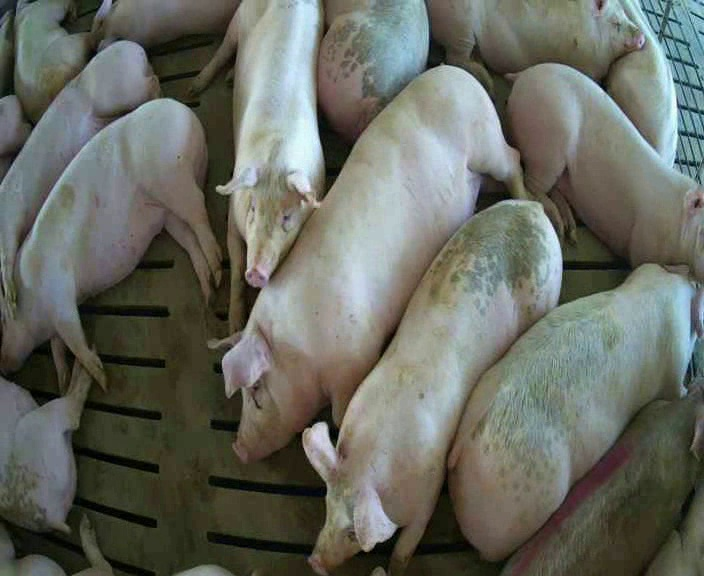pig: (207, 65, 527, 461), (305, 203, 560, 573), (448, 264, 703, 558), (0, 99, 221, 390), (190, 2, 324, 333), (0, 41, 158, 318), (503, 63, 703, 280), (502, 376, 703, 573), (428, 1, 644, 93), (0, 361, 91, 532), (318, 1, 428, 141), (606, 1, 677, 165), (15, 1, 103, 121), (91, 0, 238, 52)
